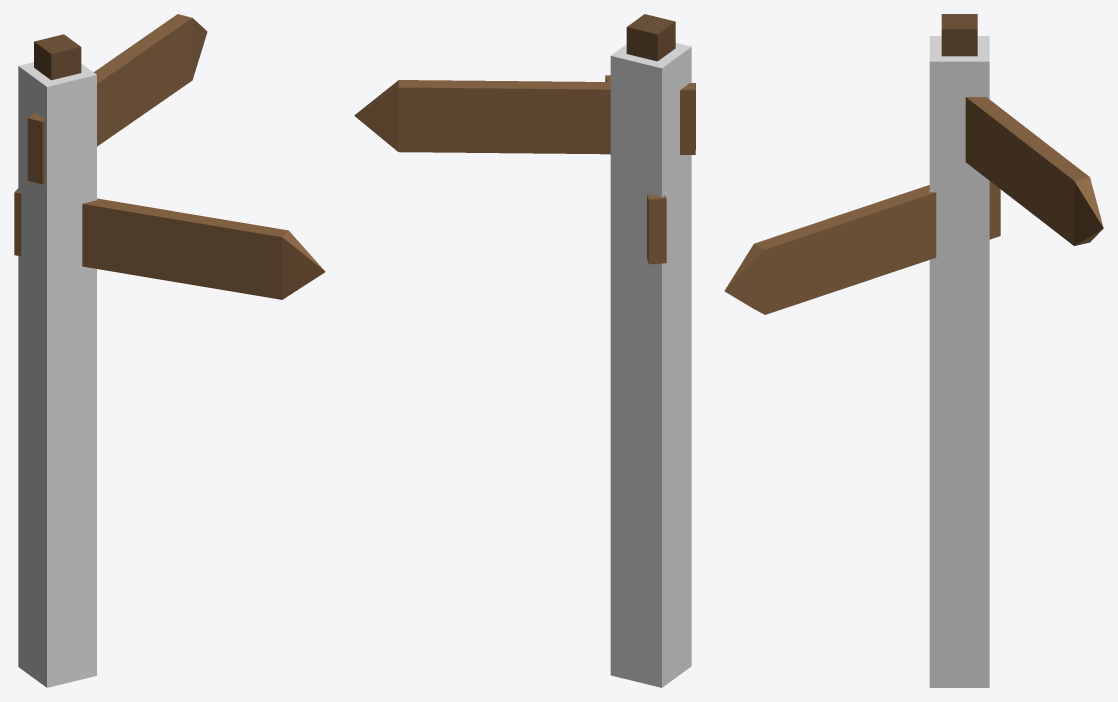
Rendered from senal_camino.glb.
The picture shows the model from 3 angles, left to right: view 1: azimuth 30°, elevation 25°; view 2: azimuth 150°, elevation 25°; view 3: azimuth 270°, elevation 25°; orthographic projection. The views are drawn at different scales.
Visible parts, largest first — view 1: COL_0, senal_camino_Malla; view 2: COL_0, senal_camino_Malla; view 3: COL_0, senal_camino_Malla.
Part boxes in pixels (x1,y1,x2,y2): COL_0: (18,62,96,687); senal_camino_Malla: (14,14,325,299); COL_0: (610,43,691,687); senal_camino_Malla: (354,14,695,264); COL_0: (929,36,989,687); senal_camino_Malla: (724,14,1103,314).
Bounding box in the file's own units: 1.02 × 2.4 × 1.26.
